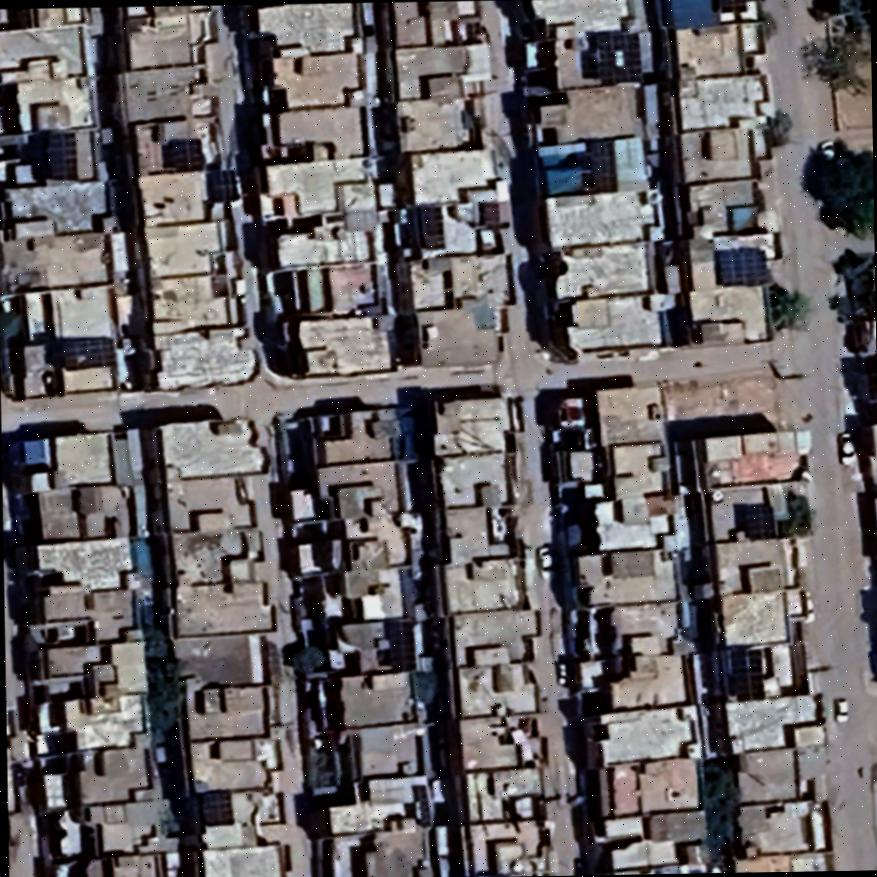Solarpanel: (710, 242, 773, 288), (592, 26, 641, 84), (52, 331, 116, 374), (721, 642, 762, 707), (38, 124, 78, 183), (381, 614, 417, 675), (584, 134, 616, 195), (194, 785, 236, 829), (162, 135, 205, 176), (416, 199, 446, 250), (204, 164, 242, 204), (737, 499, 774, 540)
